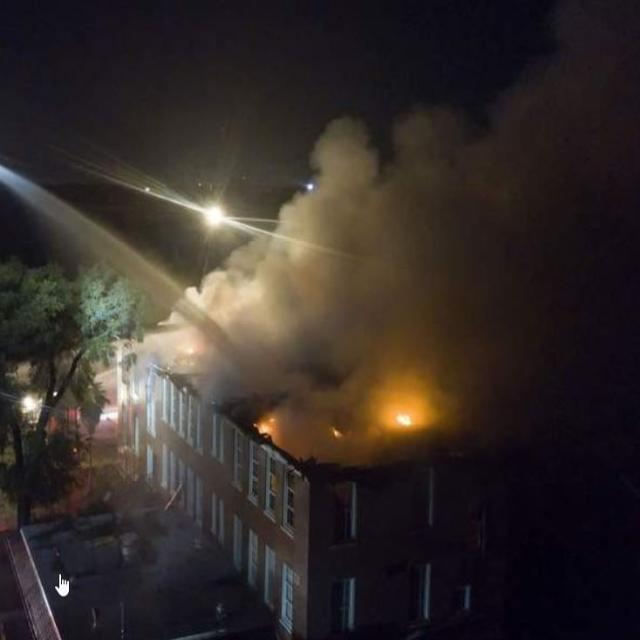Fire: (382, 386, 432, 436), (255, 413, 280, 439), (326, 424, 355, 446)
Smoke: (241, 158, 531, 308)
